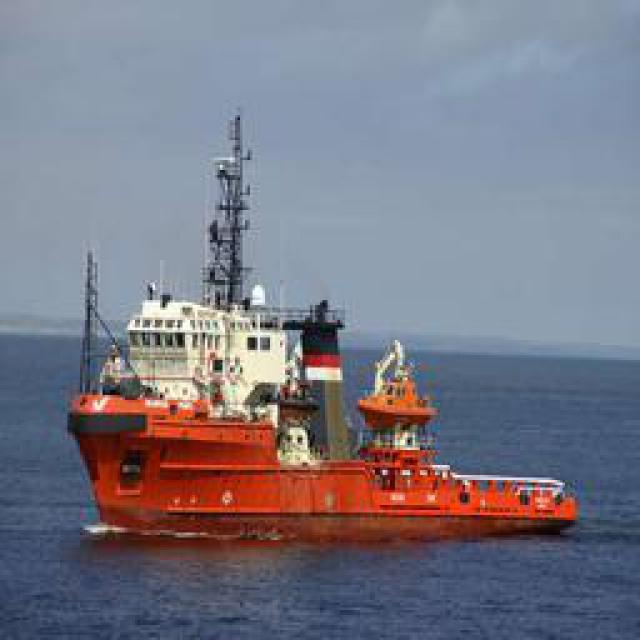Ship: (70, 271, 578, 541)
